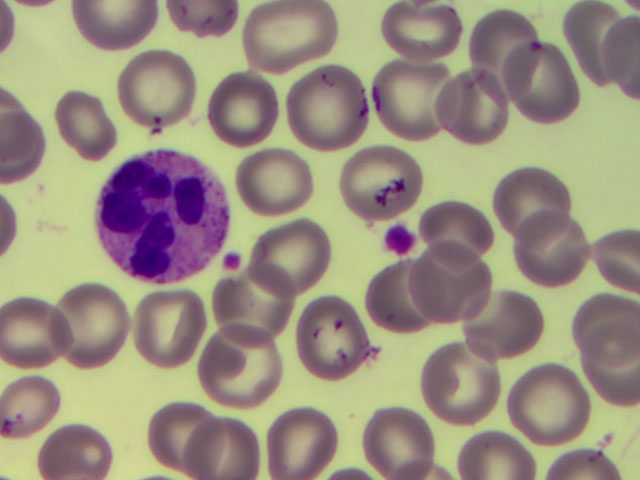Platelets: (385, 226, 412, 255), (380, 180, 407, 202), (222, 252, 241, 270)
RBC: (241, 224, 333, 298), (375, 58, 457, 141), (287, 64, 368, 148), (45, 291, 130, 370), (501, 40, 578, 127), (493, 164, 577, 243), (200, 327, 287, 403), (115, 53, 195, 132), (422, 340, 504, 416), (471, 7, 536, 102), (512, 364, 588, 444), (413, 245, 489, 324), (293, 298, 367, 378), (338, 149, 423, 218), (517, 209, 589, 289), (245, 2, 336, 65), (459, 291, 543, 359), (49, 91, 121, 170), (215, 273, 293, 343), (565, 7, 634, 86), (366, 264, 446, 332), (377, 1, 468, 60), (362, 411, 439, 480), (568, 293, 640, 366), (263, 410, 336, 480), (436, 72, 509, 142), (211, 75, 279, 148), (149, 405, 225, 470), (137, 294, 204, 367), (1, 301, 69, 371), (183, 419, 258, 480), (423, 204, 493, 268), (576, 340, 640, 407), (234, 151, 313, 204), (38, 426, 114, 480), (453, 431, 536, 480), (73, 1, 163, 43), (1, 375, 59, 438), (1, 112, 48, 182), (593, 229, 640, 295), (600, 21, 640, 95), (1, 89, 36, 173), (166, 1, 239, 37), (547, 448, 620, 480), (1, 1, 20, 59), (1, 192, 17, 253)
WBC: (99, 153, 220, 283)
